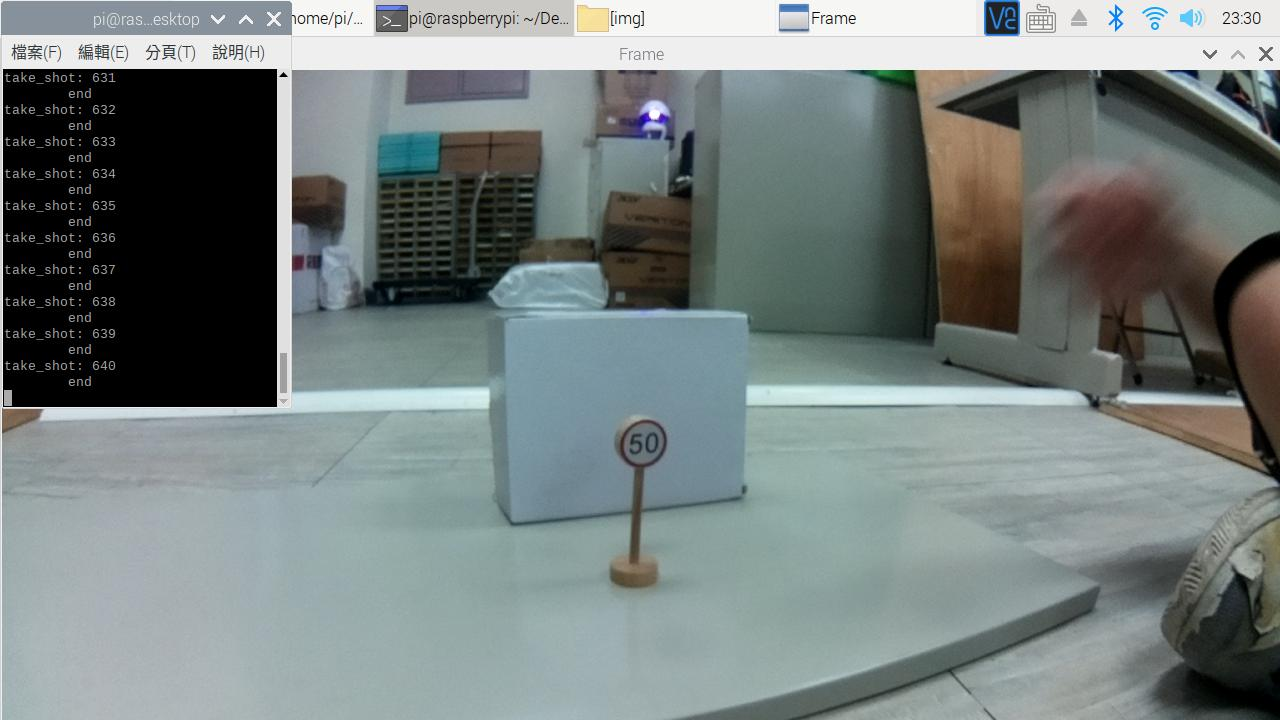Speed50: (609, 408, 670, 483)
